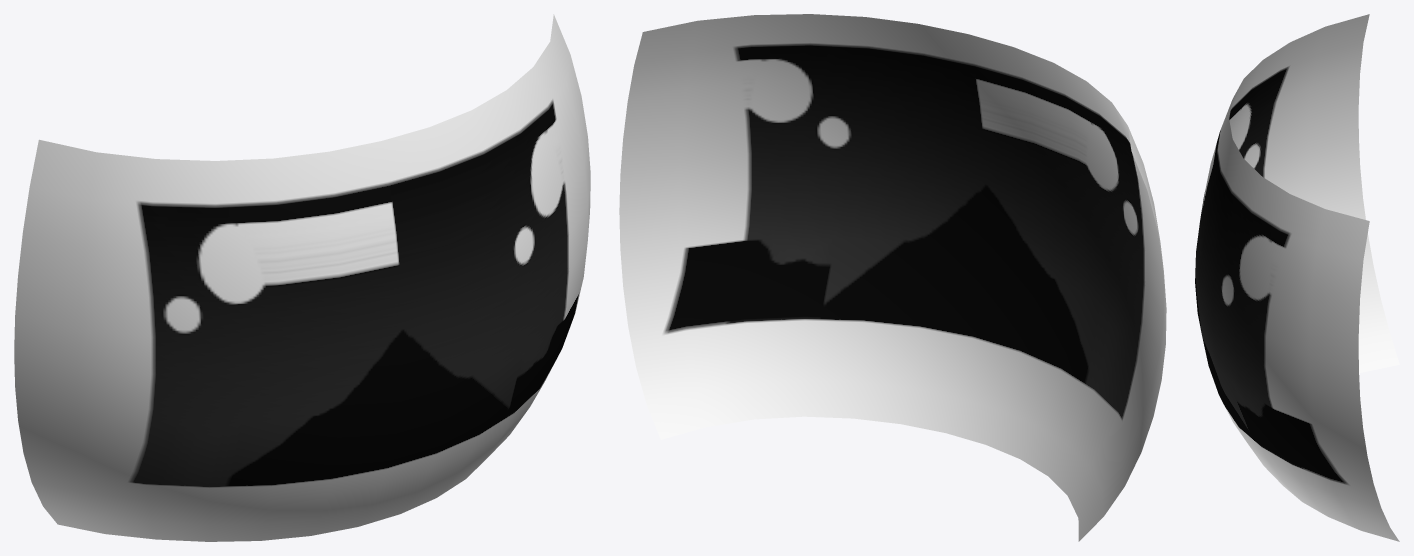
File: Scar Face .fbx
The picture shows the model from 3 angles, left to right: view 1: azimuth 30°, elevation 25°; view 2: azimuth 150°, elevation 25°; view 3: azimuth 270°, elevation 25°; orthographic projection. The views are drawn at different scales.
Visible parts, largest first — view 1: Scar Face; view 2: Scar Face; view 3: Scar Face.
Part boxes in pixels (<box>): Scar Face: <box>14,14,590,541</box>; Scar Face: <box>619,14,1166,541</box>; Scar Face: <box>1195,14,1399,541</box>.
Size of the model in its own units: 55.82 by 37.73 by 20.87.
